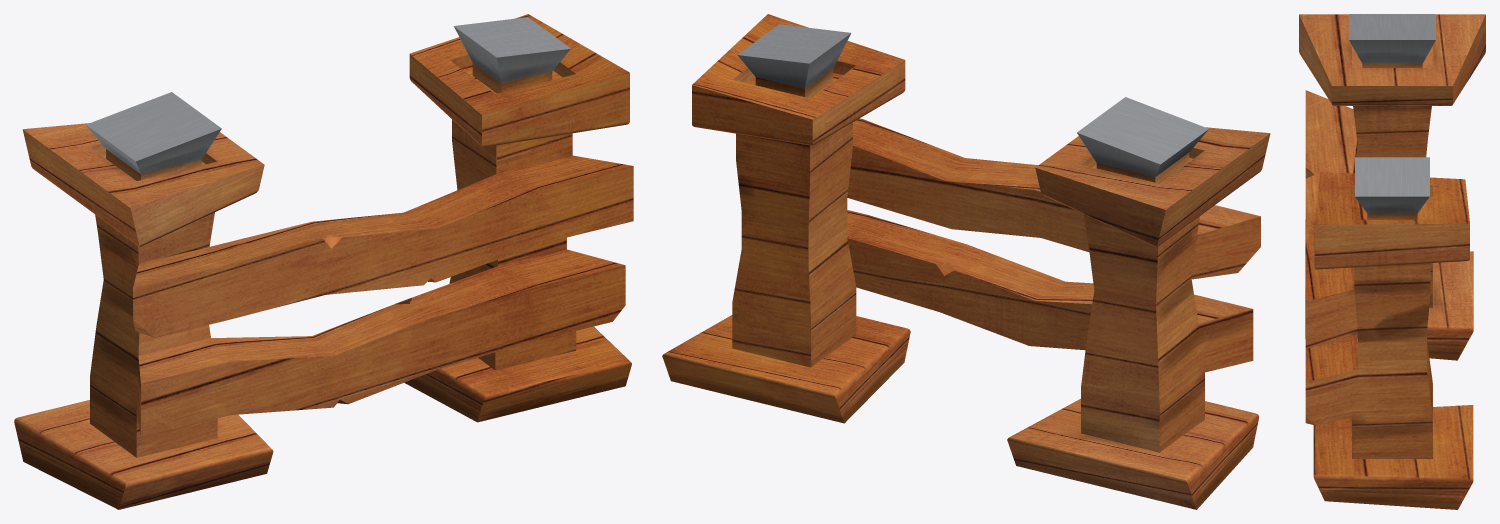
File: Fence.fbx
The picture shows the model from 3 angles, left to right: view 1: azimuth 30°, elevation 25°; view 2: azimuth 150°, elevation 25°; view 3: azimuth 270°, elevation 25°; orthographic projection. The views are drawn at different scales.
Visible parts, largest first — view 1: Fence; view 2: Fence; view 3: Fence.
Part boxes in pixels (left/top/right/bottom): Fence: left=14, top=14, right=633, bottom=509; Fence: left=662, top=14, right=1270, bottom=509; Fence: left=1299, top=14, right=1485, bottom=509.
Size of the model in its own units: 1.87 by 1.15 by 0.6476.
